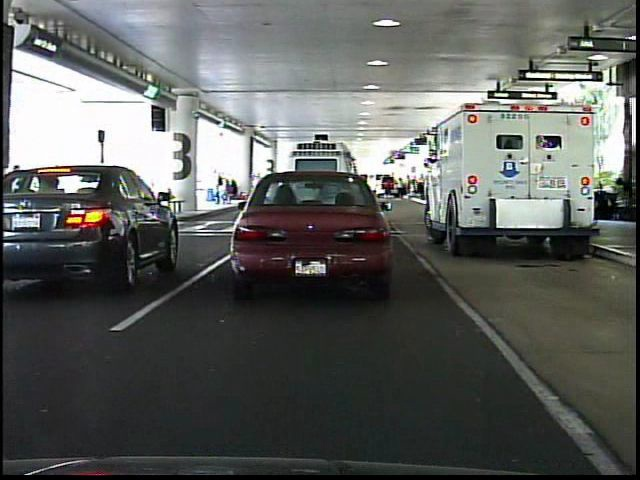person: (247, 170, 265, 206)
